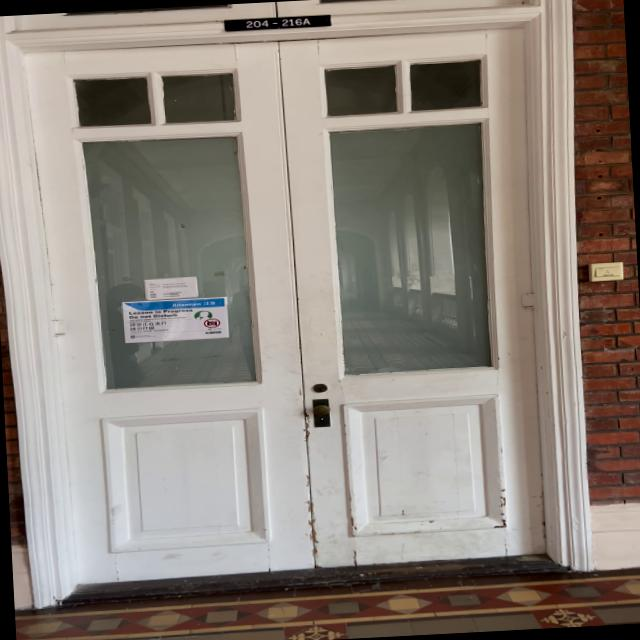room204: (212, 8, 339, 36)
